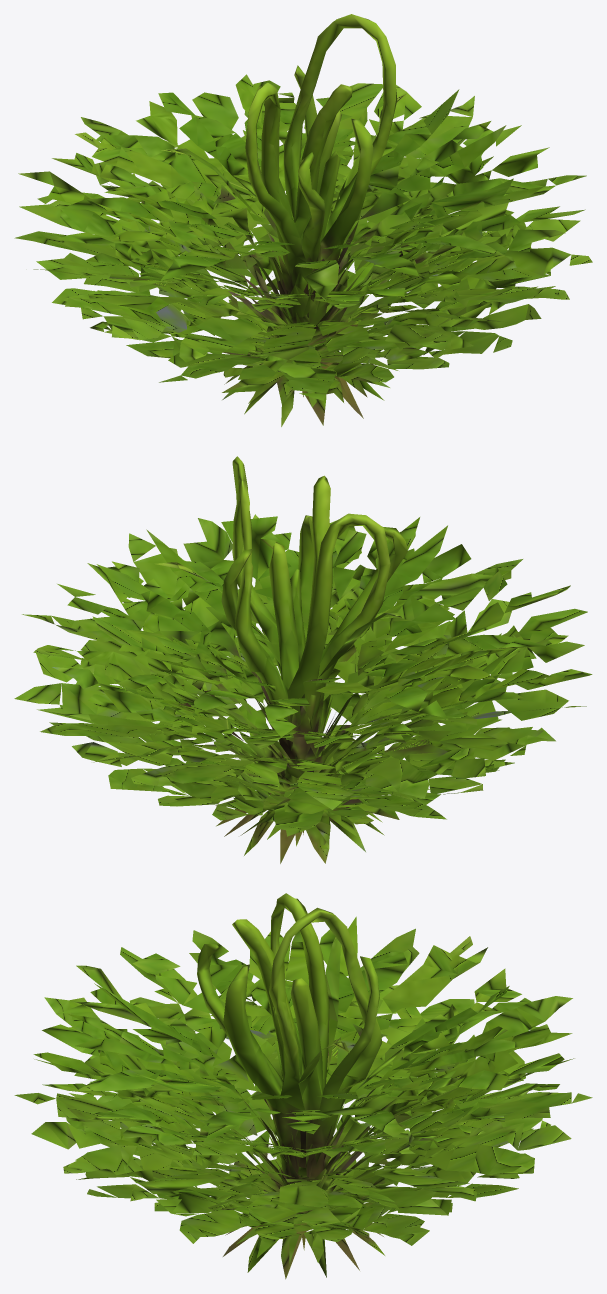
The model's file is fern.glb.
3 renders of one model, top to bottom at view 1: azimuth 30°, elevation 25°; view 2: azimuth 150°, elevation 25°; view 3: azimuth 270°, elevation 25°, orthographic.
Size of the model in its own units: 1.8 by 1.33 by 1.88.
Materials: 1 (1 with a texture image).
